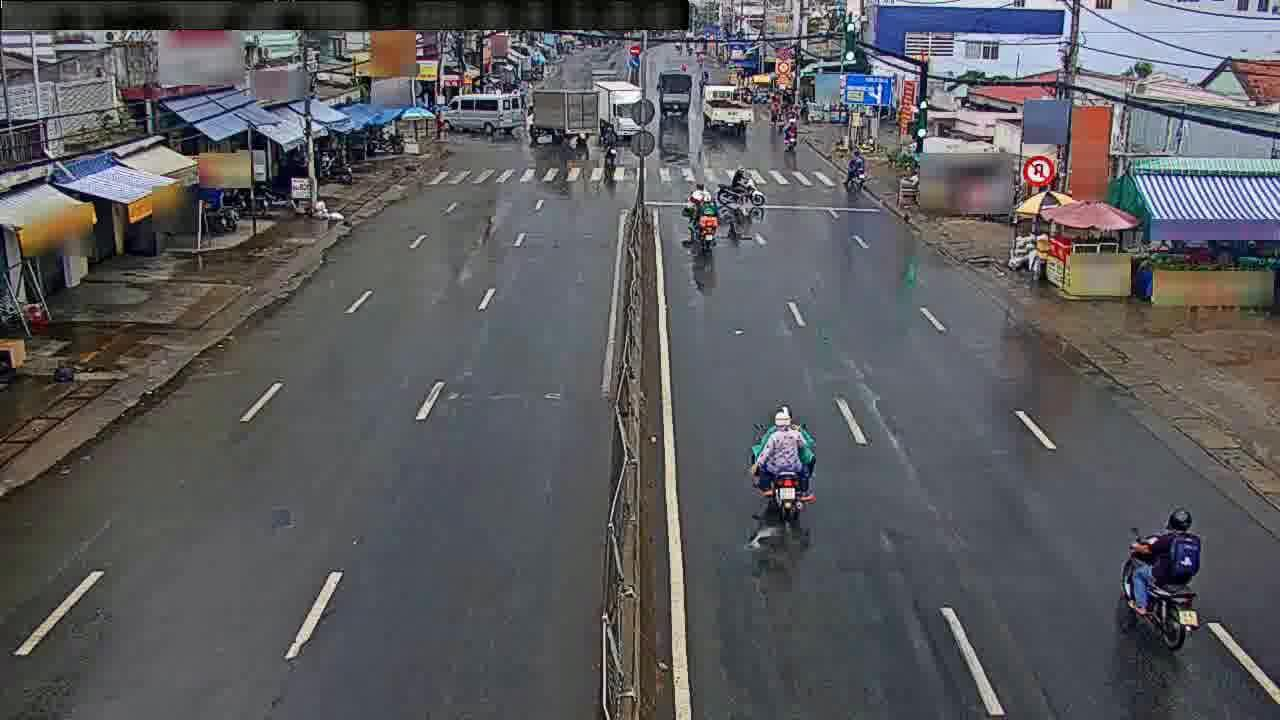14: (439, 88, 523, 136)
8: (525, 87, 603, 157)
container: (653, 63, 693, 114)
motorbike: (1116, 499, 1204, 645), (744, 403, 830, 532), (681, 178, 721, 247), (717, 163, 770, 207), (841, 147, 868, 191)
